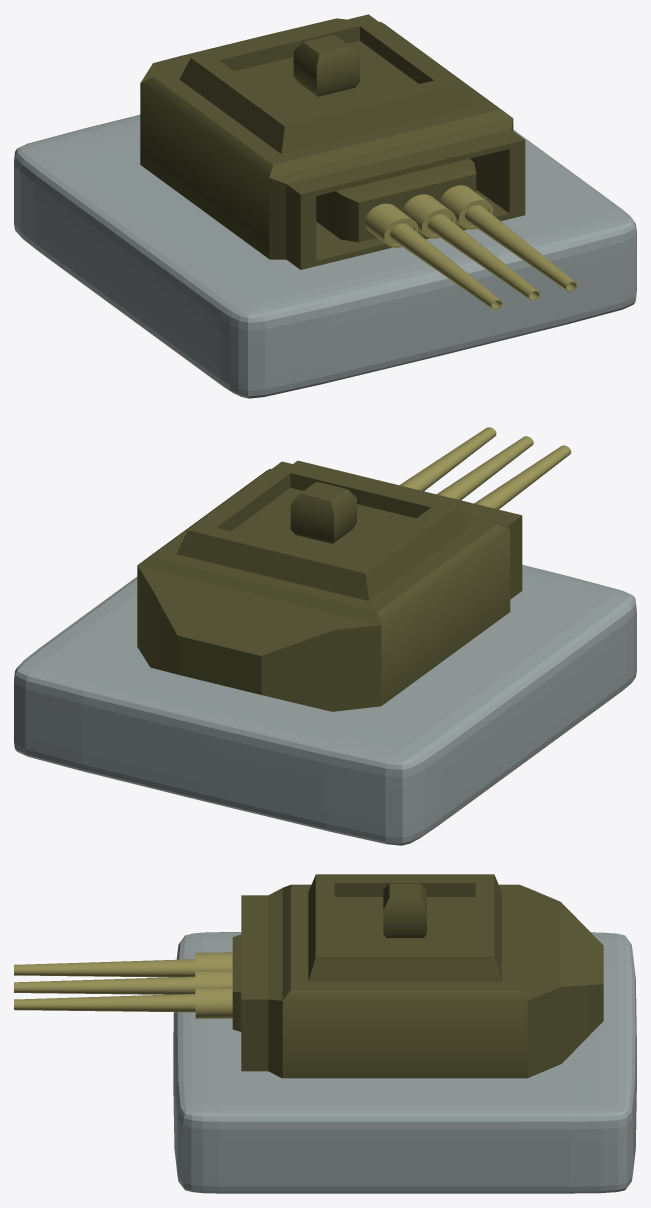
The model's file is VastaCannon2.fbx.
The picture shows the model from 3 angles, top to bottom: view 1: azimuth 30°, elevation 25°; view 2: azimuth 150°, elevation 25°; view 3: azimuth 270°, elevation 25°; orthographic projection. The views are drawn at different scales.
Visible parts, largest first — view 1: mark 2 roots, Mark 1 body.001, Cylinder.006, Cylinder.005, Cylinder.004; view 2: mark 2 roots, Mark 1 body.001, Cylinder.005, Cylinder.004, Cylinder.006; view 3: Mark 1 body.001, mark 2 roots, Cylinder.004, Cylinder.006, Cylinder.005.
Boxes of the visible parts, x1,y1,x2,y2 form: mark 2 roots: (14, 115, 636, 398); Mark 1 body.001: (140, 14, 525, 269); Cylinder.006: (364, 203, 502, 309); Cylinder.005: (402, 194, 540, 300); Cylinder.004: (439, 185, 577, 291); mark 2 roots: (14, 565, 636, 845); Mark 1 body.001: (137, 460, 522, 711); Cylinder.005: (437, 436, 533, 500); Cylinder.004: (399, 427, 496, 491); Cylinder.006: (474, 445, 571, 509); Mark 1 body.001: (232, 874, 603, 1078); mark 2 roots: (173, 932, 636, 1193); Cylinder.004: (14, 987, 232, 1018); Cylinder.006: (14, 952, 232, 977); Cylinder.005: (14, 970, 232, 994).
Size of the model in its own units: 204 by 108 by 285.
